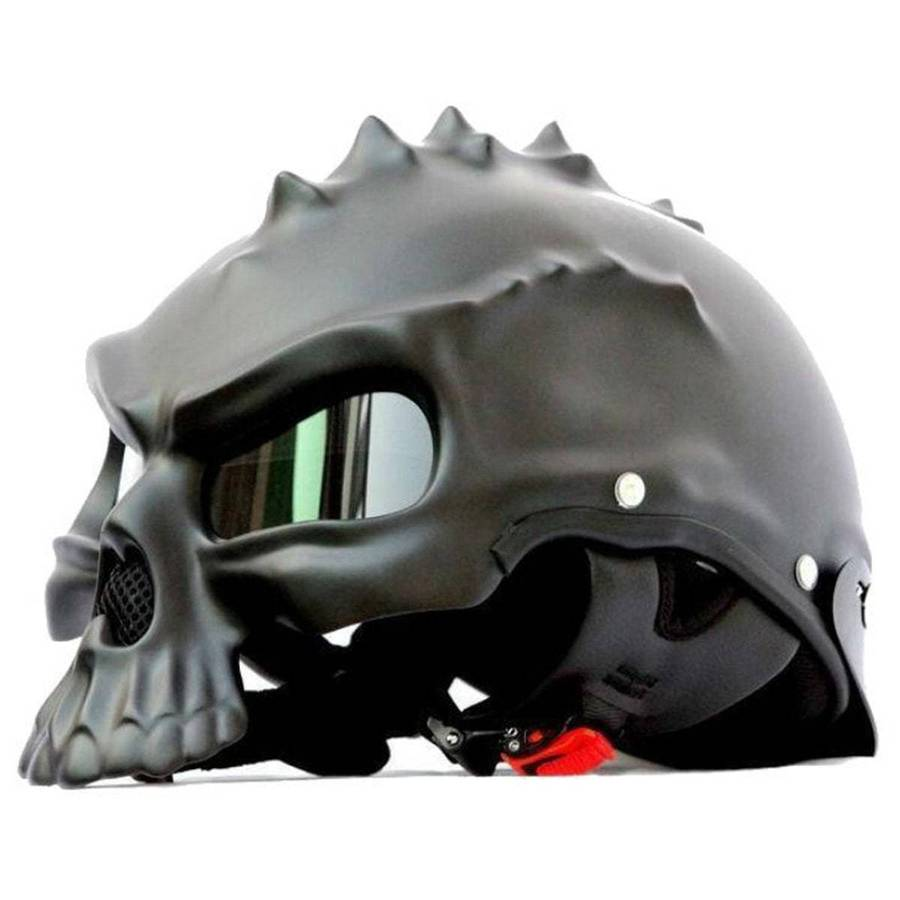with_helmet: (11, 93, 890, 800)
